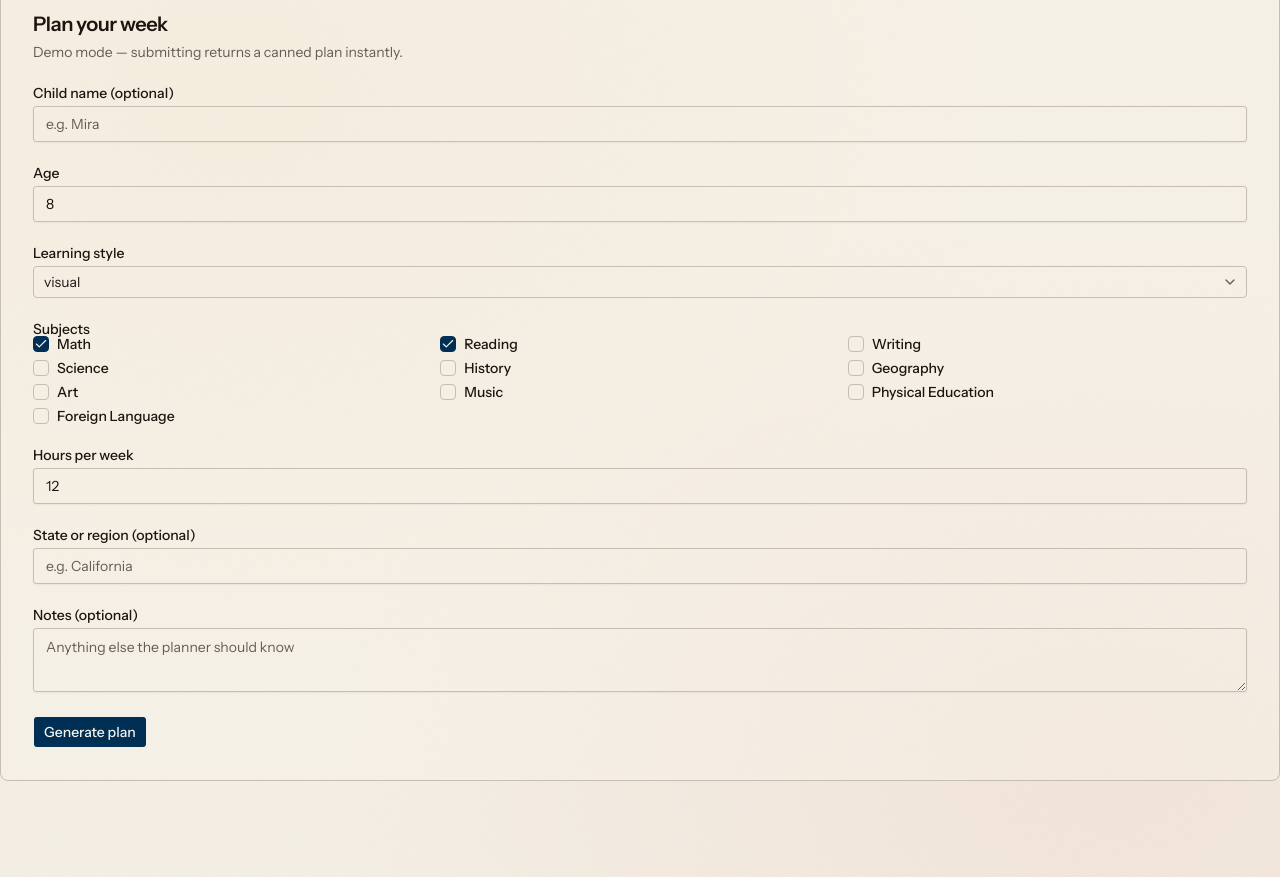
it: ClassMapFlow — demo happy path › submits and renders the result with a PlanBoard
Click the button "Generate plan" at (90, 732), box [33,716,147,748]
(page scrolled)
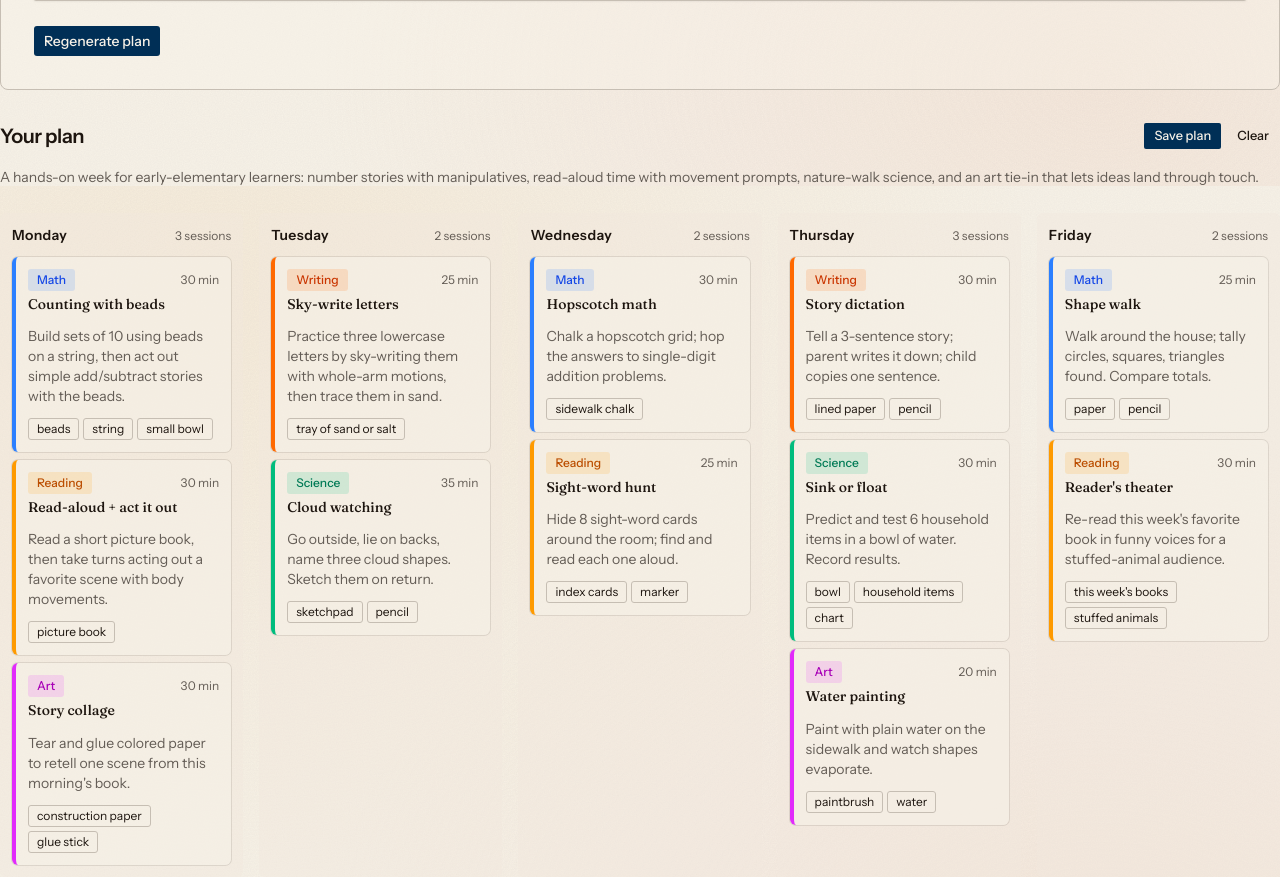
Result: the element named "Generated lesson plan" is shown
Result: the element named "Weekly lesson plan" is shown
